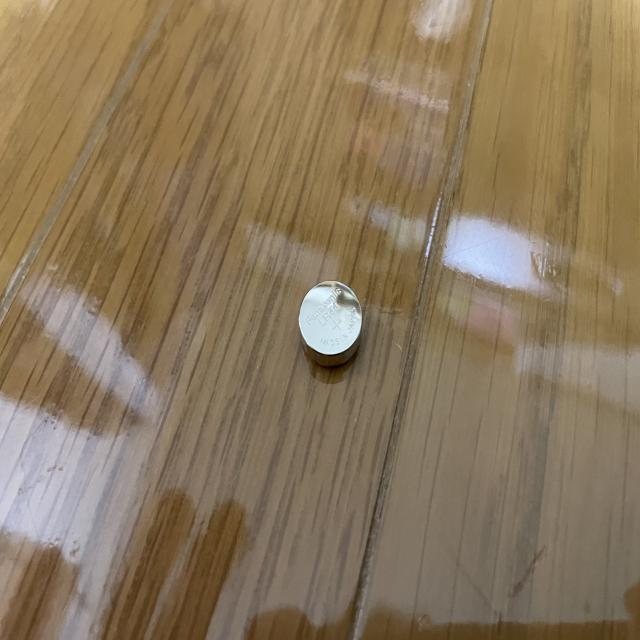COIN: (297, 278, 363, 367)
